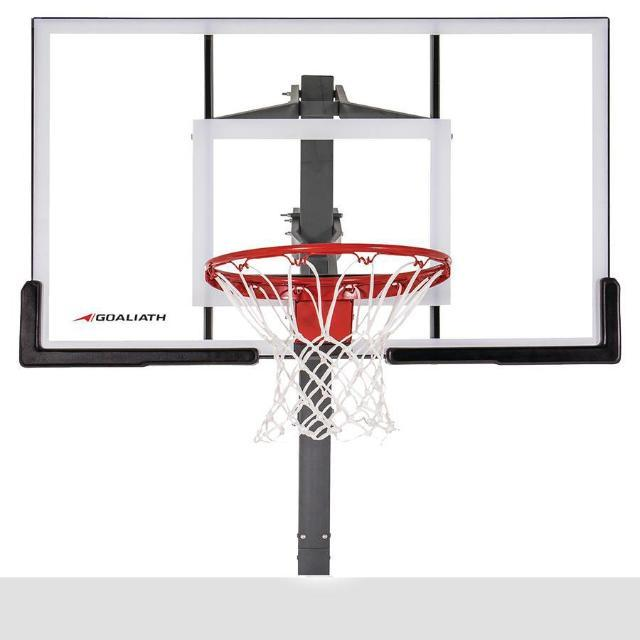rim: (206, 242, 452, 440)
